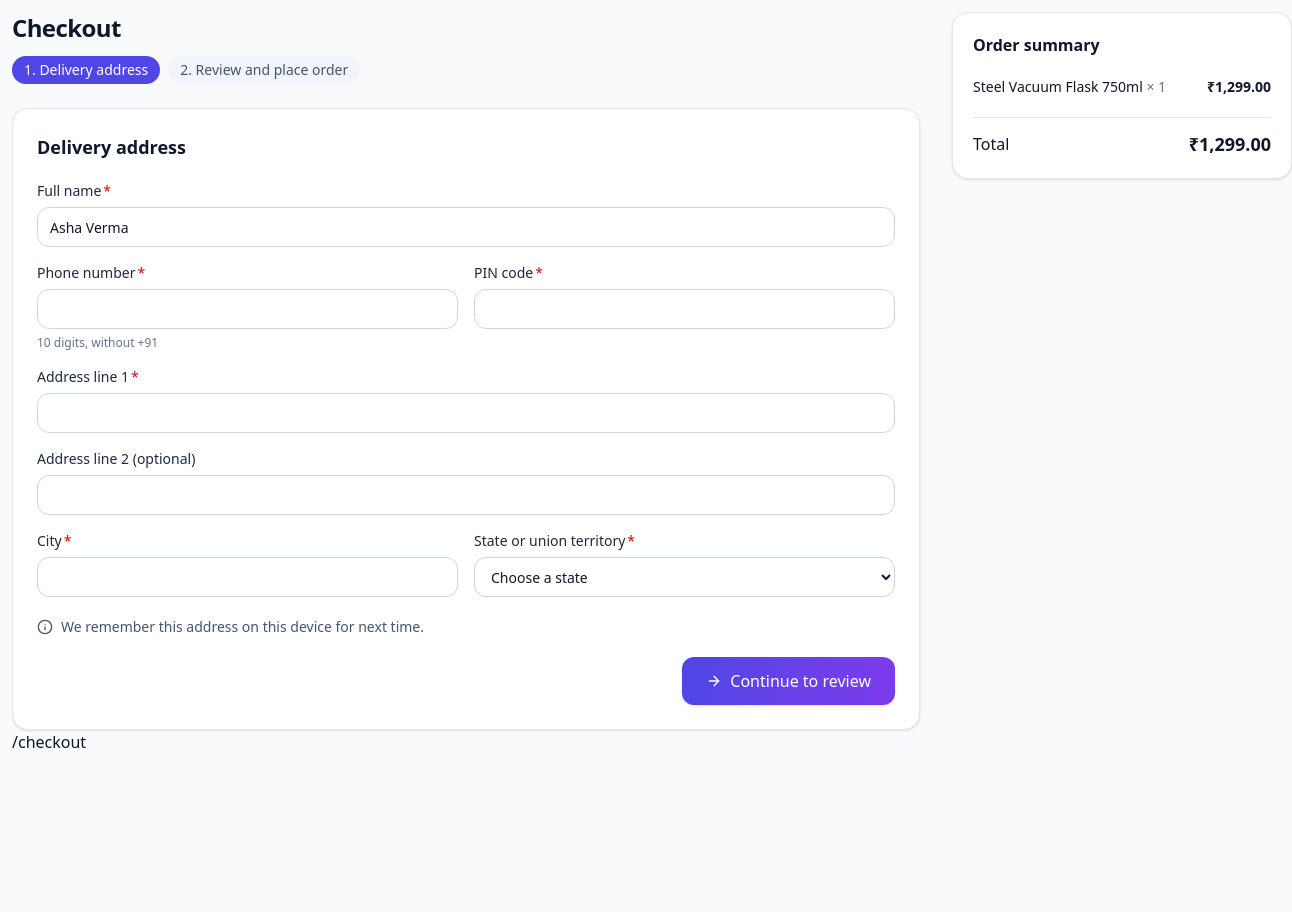
Test: CheckoutPage › shows the field messages when the address is incomplete
The width and height of the screenshot is (1292, 912).
Expected: the field labelled "Full name*" is shown, [37,207,895,247]
Step 1. Click the button "Continue to review" → (789,681), box [682,657,895,705]
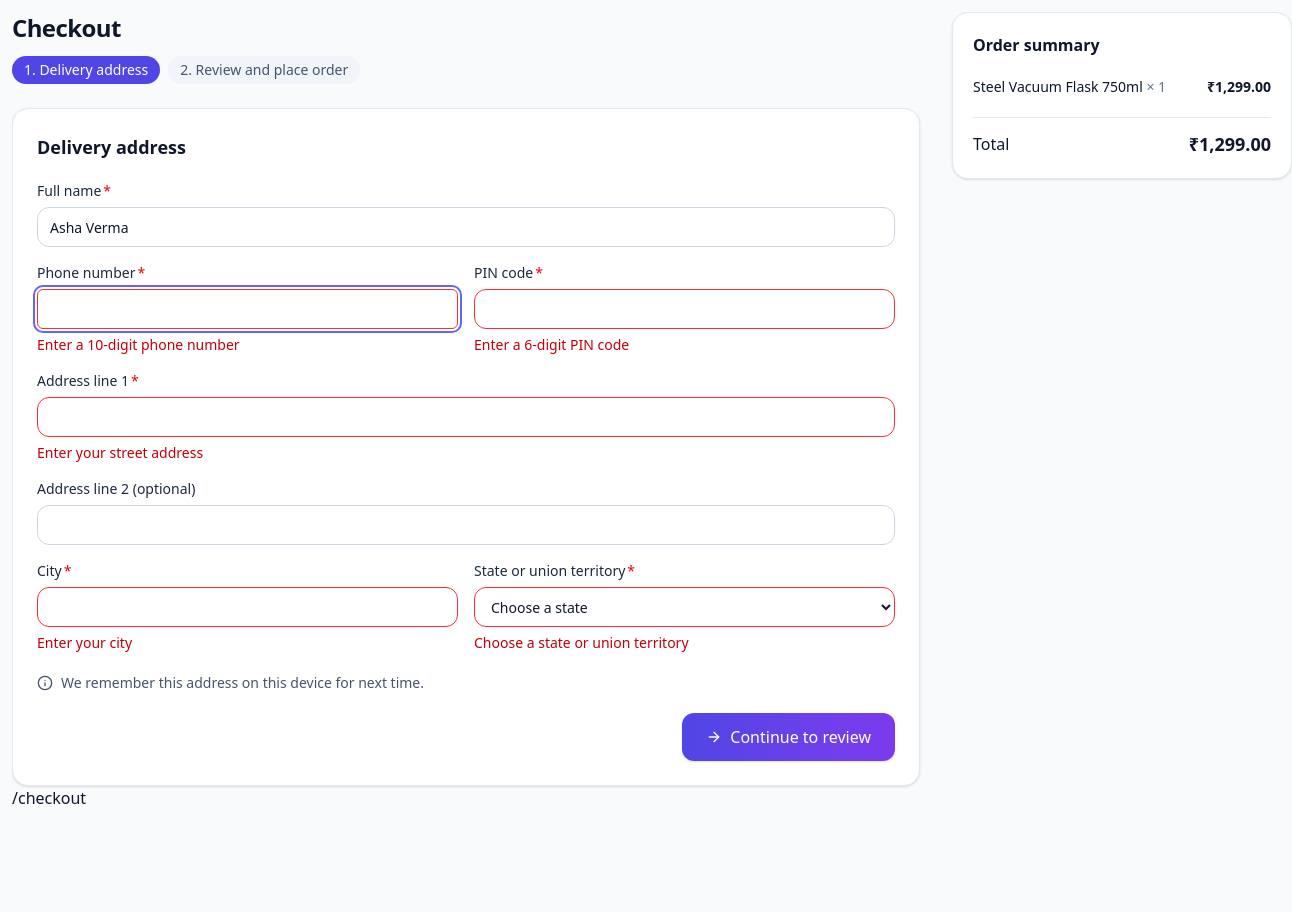
Result: the text "Enter a 10-digit phone number" is shown at [37,335,240,354]
Result: the text "Enter a 6-digit PIN code" is shown at [474,335,629,354]
Result: the text "Choose a state or union territory" is shown at [474,633,688,652]
